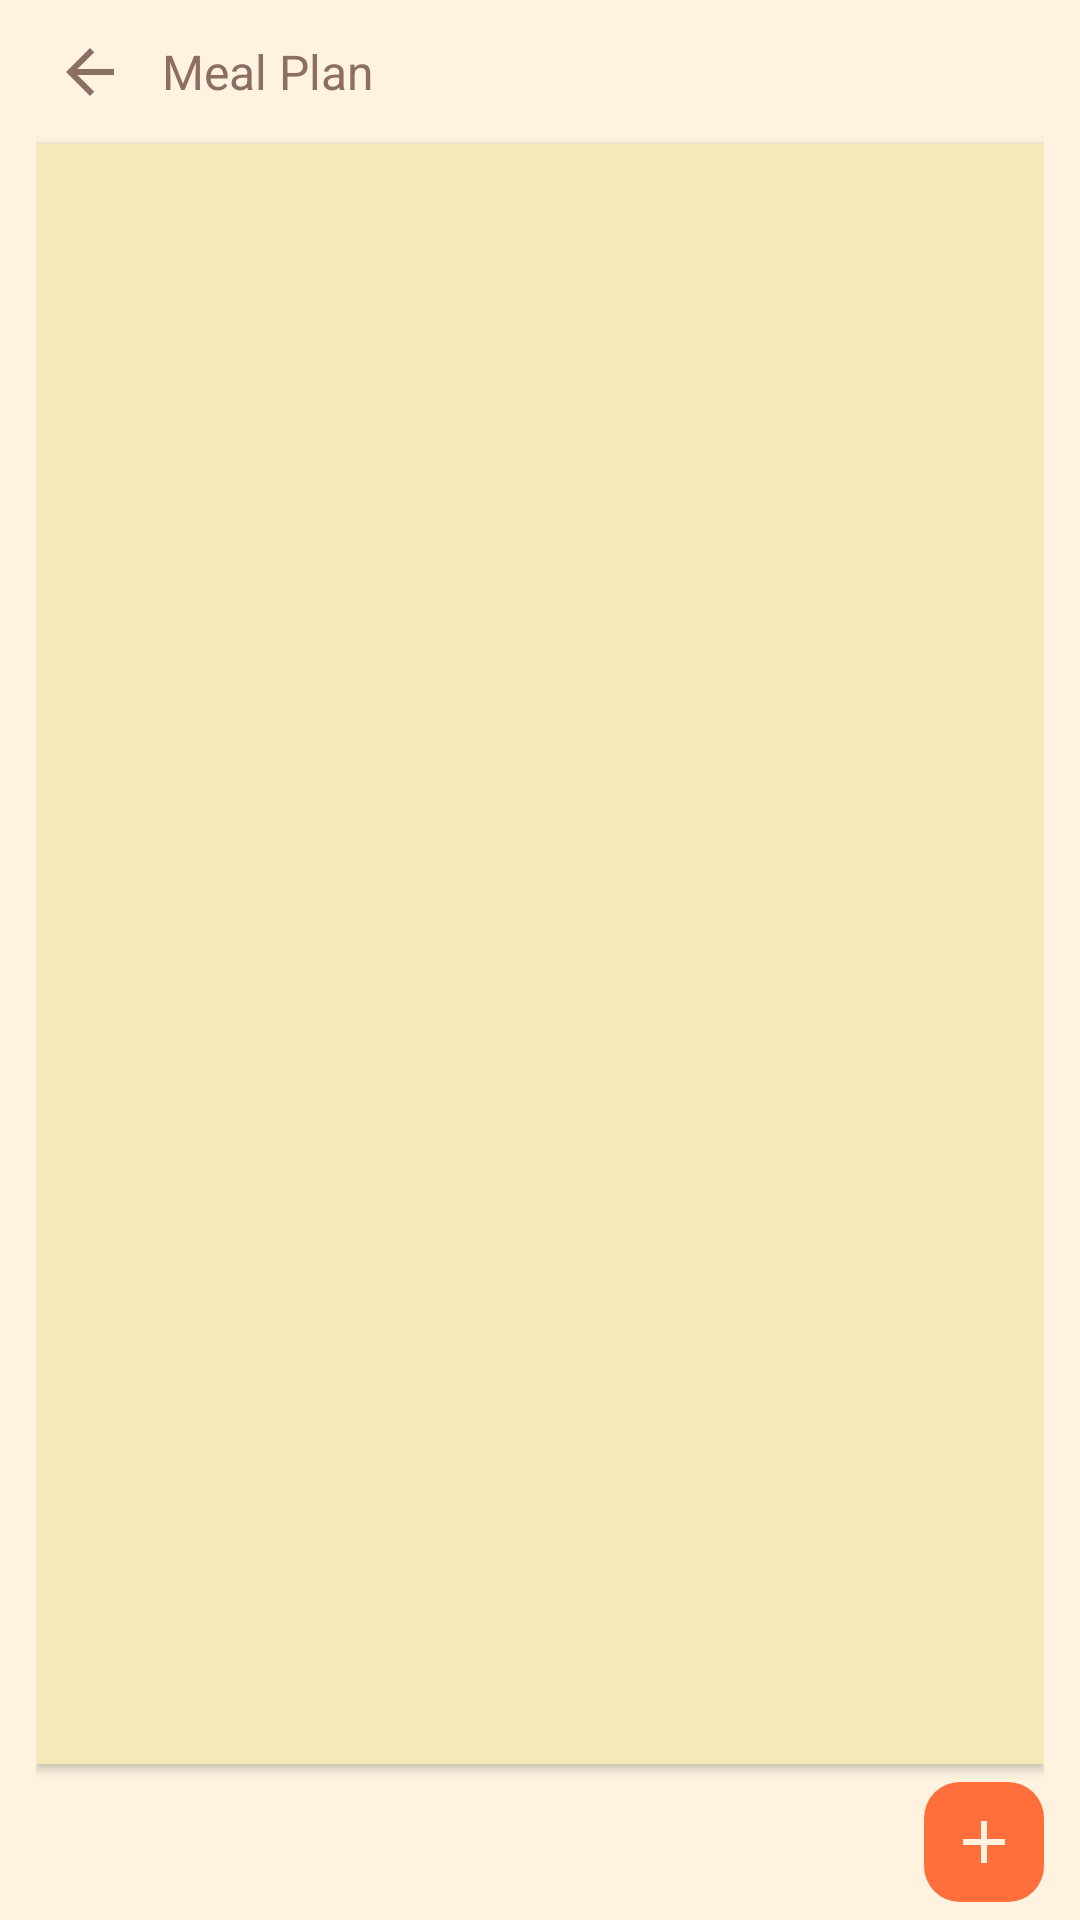

Named icons in this screenshot (1080×1920) and their bounding boxes, BBox(x1, y1, x2, y2):
Back to Home: BBox(66, 48, 114, 96)
Plan Meal: BBox(924, 1782, 1044, 1902)
